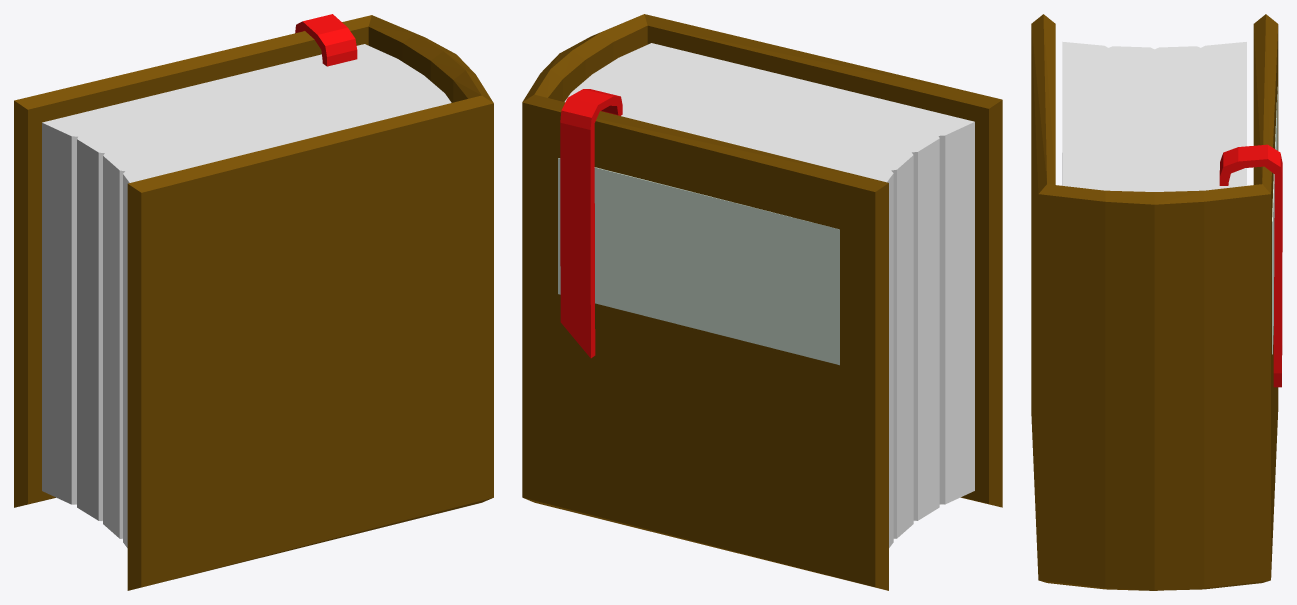
File: book.fbx
The picture shows the model from 3 angles, left to right: view 1: azimuth 30°, elevation 25°; view 2: azimuth 150°, elevation 25°; view 3: azimuth 270°, elevation 25°; orthographic projection. The views are drawn at different scales.
Visible parts, largest first — view 1: Box001, Object001, Box002; view 2: Box001, Object001, Plane001, Box002; view 3: Box001, Object001, Box002, Plane001.
Boxes of the visible parts, left/top/right/bottom form: Box001: left=14, top=15, right=493, bottom=590; Object001: left=42, top=44, right=451, bottom=547; Box002: left=295, top=14, right=357, bottom=66; Box001: left=522, top=14, right=1002, bottom=590; Object001: left=564, top=43, right=974, bottom=547; Plane001: left=558, top=158, right=839, bottom=365; Box002: left=560, top=89, right=622, bottom=358; Box001: left=1031, top=14, right=1278, bottom=590; Object001: left=1062, top=41, right=1246, bottom=191; Box002: left=1219, top=144, right=1282, bottom=387; Plane001: left=1272, top=87, right=1277, bottom=354.
Bounding box in the file's own units: 53.29 × 54.8 × 30.72.
